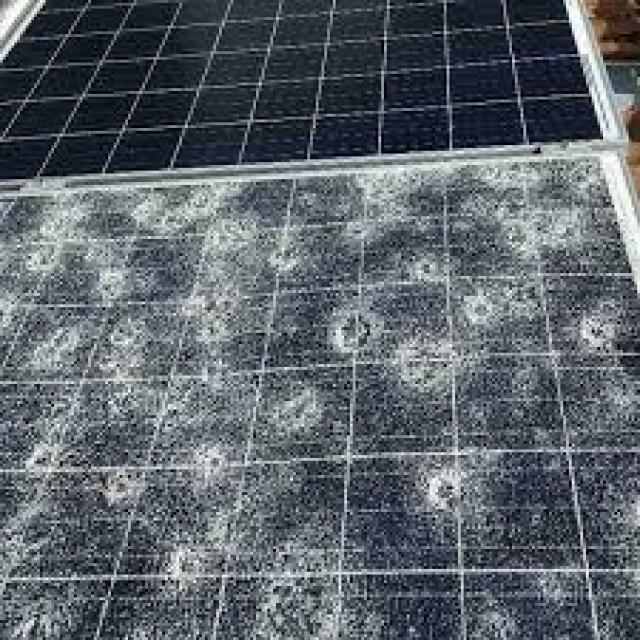faulty: (0, 185, 640, 640)
no faulty: (0, 0, 604, 163)
